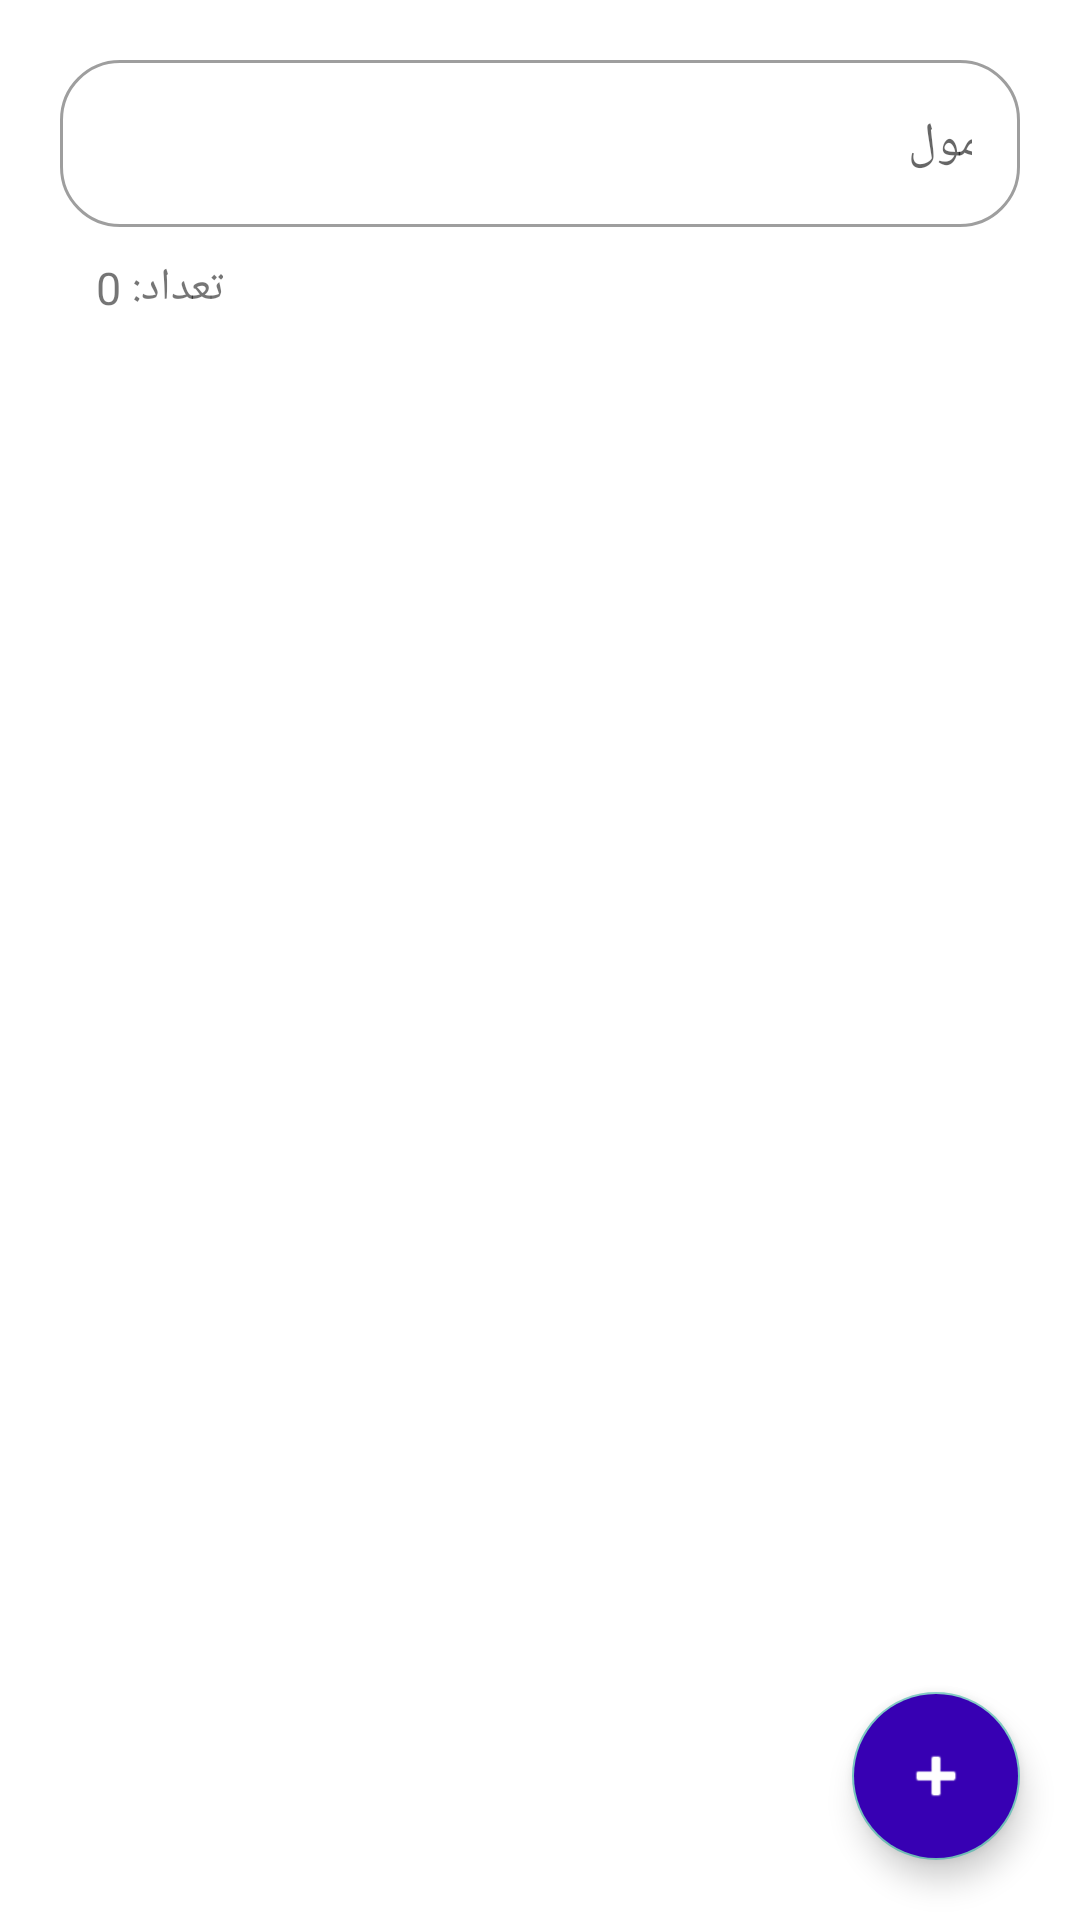

Where to tap for icons on this 1080 x 1920 app screen, as (x,y):
add: (936,1776)
